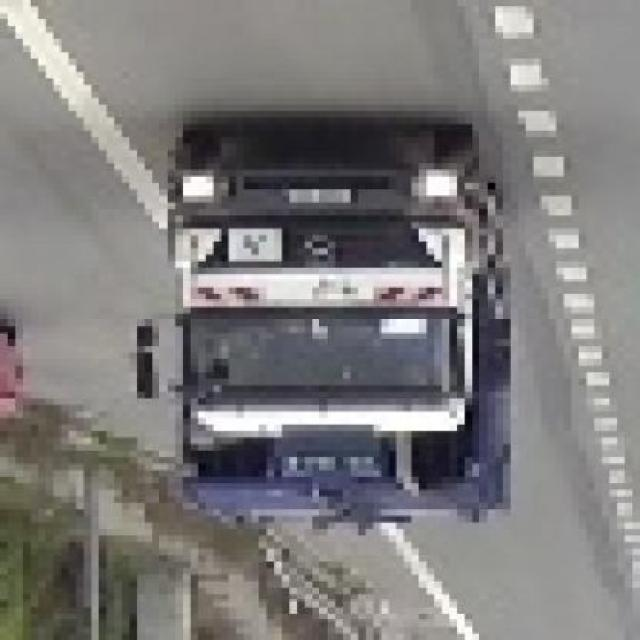truck: (146, 131, 535, 543)
